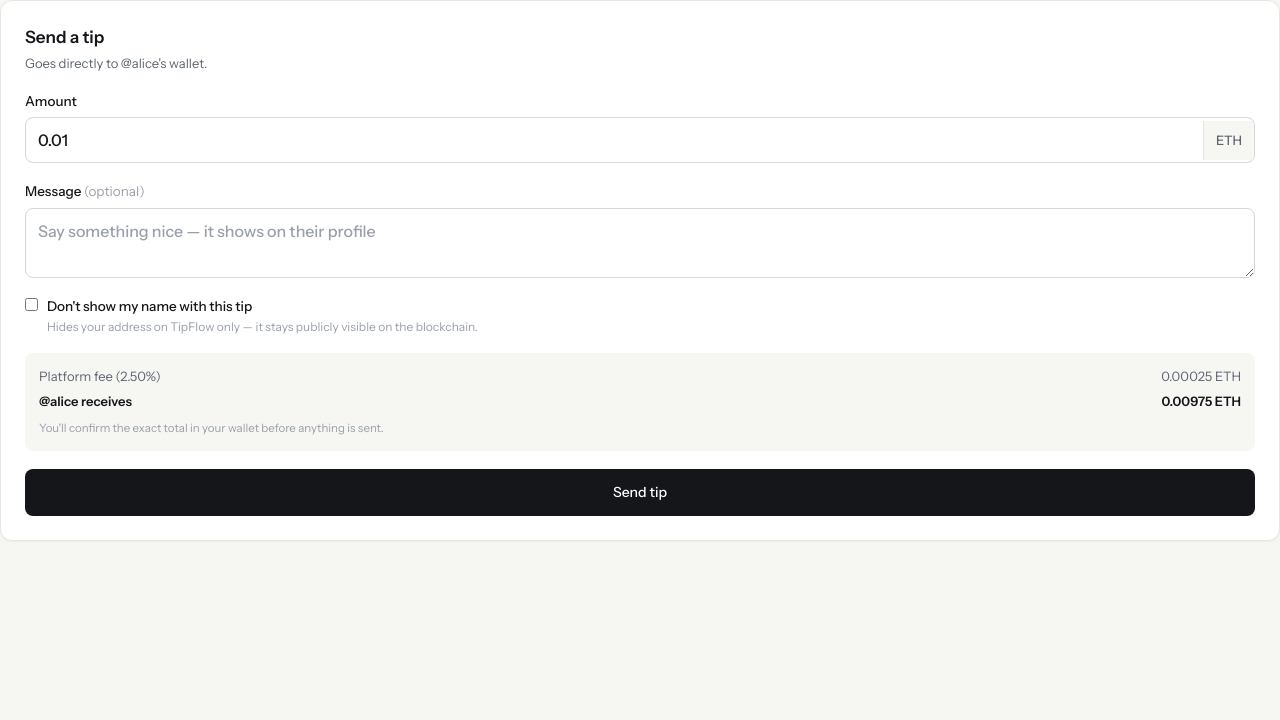
Test: TipForm › enforces the on-chain minimum tip
The image size is (1280, 720).
Replace the text in the field named "Amount in ETH" with "0.00001" at (614, 140), box [26,118,1203,162]
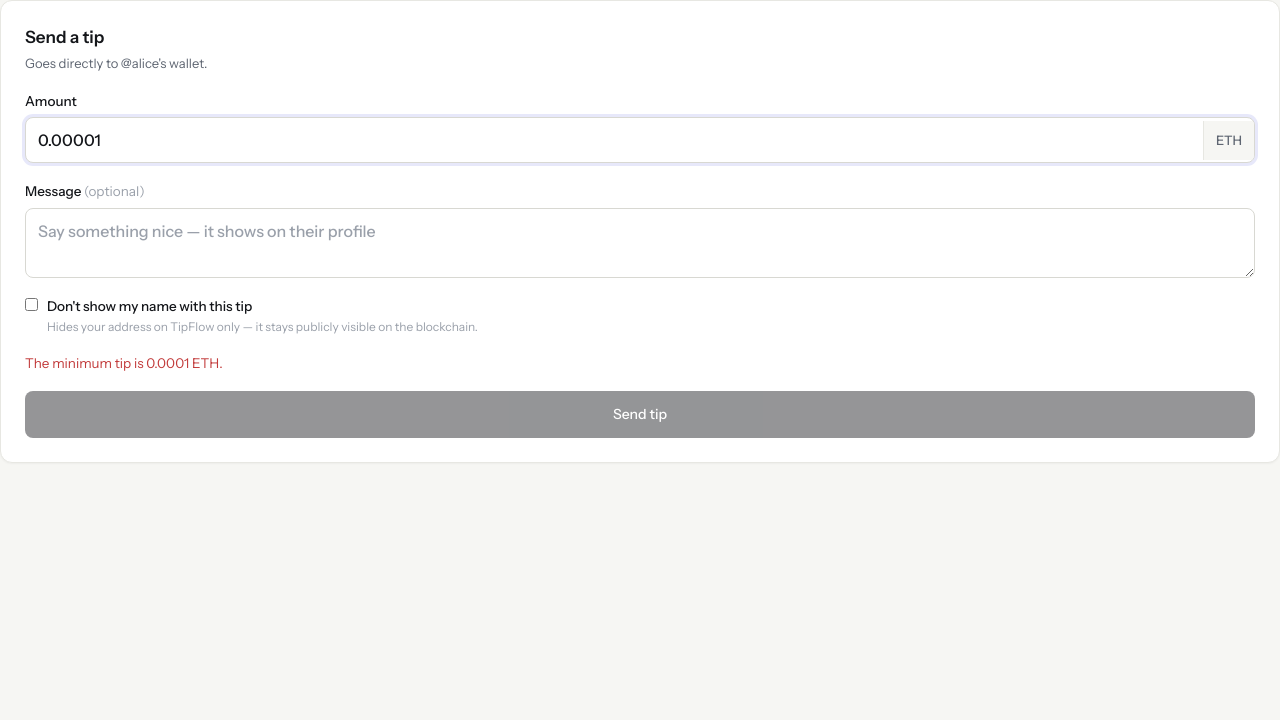
Check: the message shows "minimum tip is 0.0001 ETH", box [25,355,223,371]
